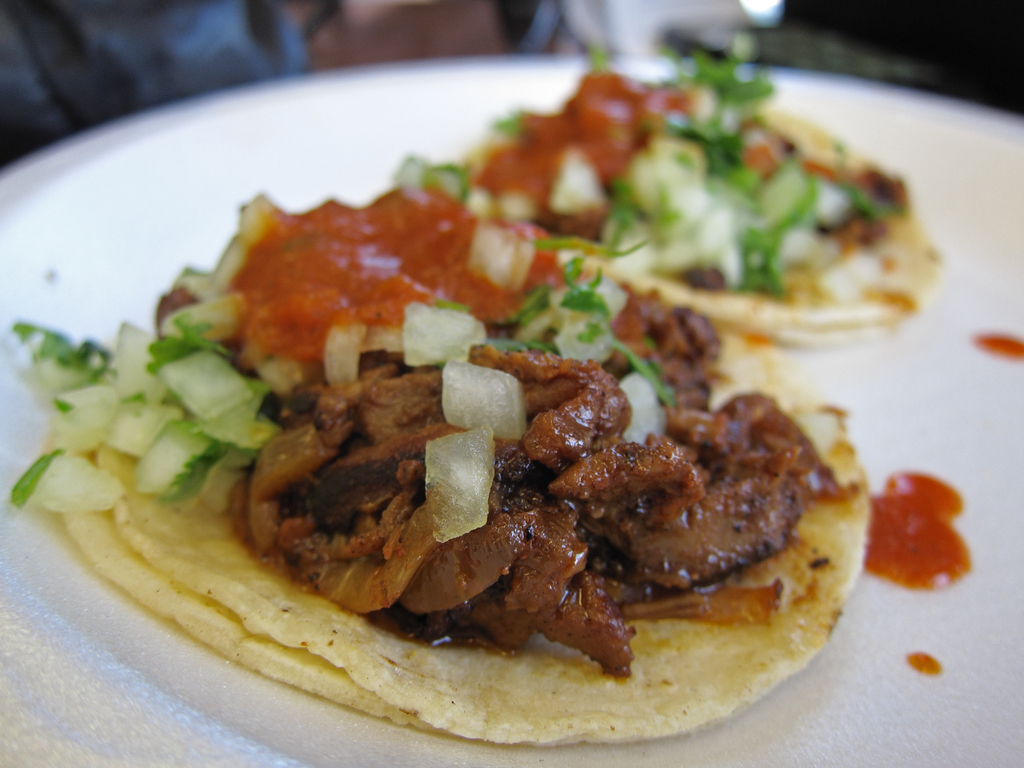taco: (74, 211, 865, 715), (320, 39, 1004, 374)
